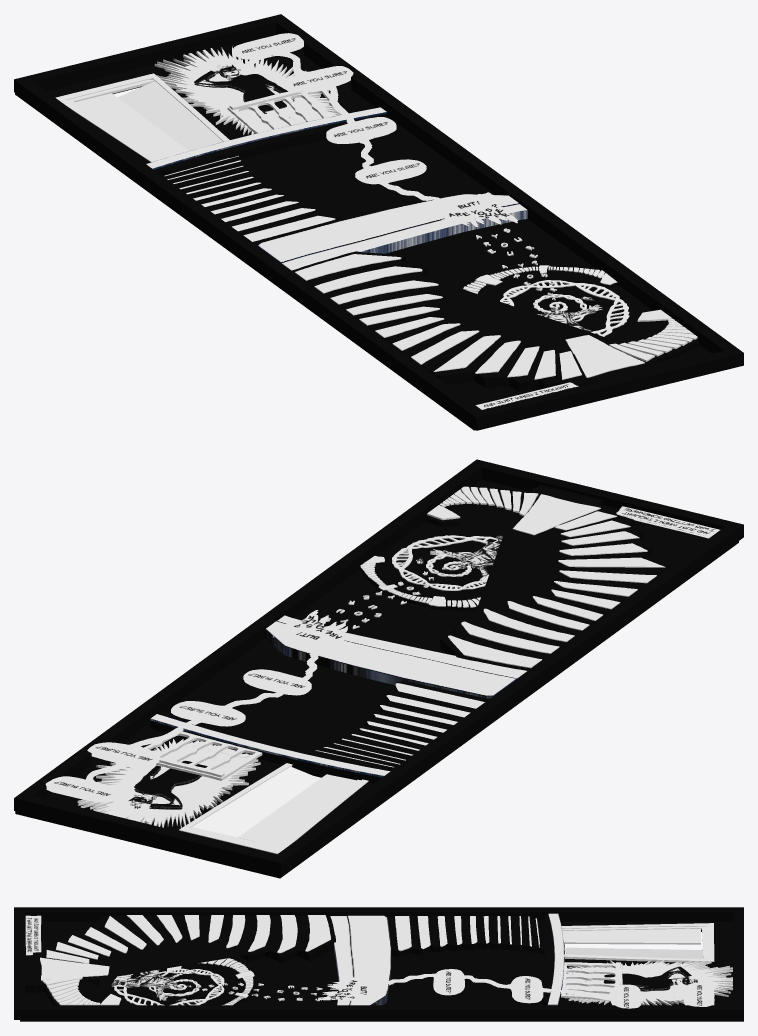
Rendered from Are You Sure.fbx.
3 renders of one model, top to bottom at view 1: azimuth 30°, elevation 25°; view 2: azimuth 150°, elevation 25°; view 3: azimuth 270°, elevation 25°, orthographic. The views are drawn at different scales.
Parts seen in each view (by area): view 1: Curve.001, Curve, Curve.009, Curve.021, Plane, Curve.008, Curve.004, Mid_Floor_Front, Curve.007, Top Stairs Front, Mid_Floor, R Door (+10 smaller); view 2: Curve.001, Curve, Curve.009, Curve.021, Plane, Curve.008, Mid_Floor_Front, Curve.004, R Door, Mid_Floor, Curve.007, Top Stairs Front (+12 smaller); view 3: Curve.001, Curve, Curve.009, Curve.021, Plane, Curve.004, Curve.008, Mid_Floor_Front, Curve.007, L Door, Top Stairs Front, Curve.006 (+14 smaller).
Boxes of the visible parts, box(x1,y1,x2,y2) form: Curve.001: box(14, 14, 743, 430); Curve: box(15, 34, 711, 430); Curve.009: box(292, 251, 662, 391); Curve.021: box(294, 254, 644, 379); Plane: box(232, 33, 517, 226); Curve.008: box(149, 46, 341, 135); Curve.004: box(162, 153, 338, 245); Mid_Floor_Front: box(257, 194, 519, 262); Curve.007: box(463, 265, 629, 336); Top Stairs Front: box(164, 155, 335, 241); Mid_Floor: box(281, 204, 527, 270); R Door: box(117, 81, 222, 150); Curve.001: box(14, 459, 743, 875); Curve: box(15, 480, 738, 878); Curve.009: box(439, 484, 670, 670); Curve.021: box(448, 494, 665, 668); Plane: box(45, 610, 349, 802); Curve.008: box(77, 739, 260, 831); Mid_Floor_Front: box(265, 621, 516, 696); Curve.004: box(313, 680, 489, 770); R Door: box(192, 766, 319, 837); Mid_Floor: box(265, 615, 527, 698); Curve.007: box(360, 535, 498, 607); Top Stairs Front: box(315, 683, 484, 767); Curve.001: box(14, 907, 743, 1019); Curve: box(20, 921, 743, 1021); Curve.009: box(25, 915, 335, 993); Curve.021: box(40, 915, 330, 980); Plane: box(318, 969, 714, 1008); Curve.004: box(385, 916, 544, 957); Curve.008: box(565, 958, 732, 1005); Mid_Floor_Front: box(347, 915, 391, 1005); Curve.007: box(113, 958, 254, 1005); L Door: box(562, 928, 700, 944); Top Stairs Front: box(395, 916, 539, 951); Curve.006: box(130, 958, 254, 1005).
Bounding box in the file's own units: 249 × 18.34 × 748.
Materials: 30 (16 with a texture image).
